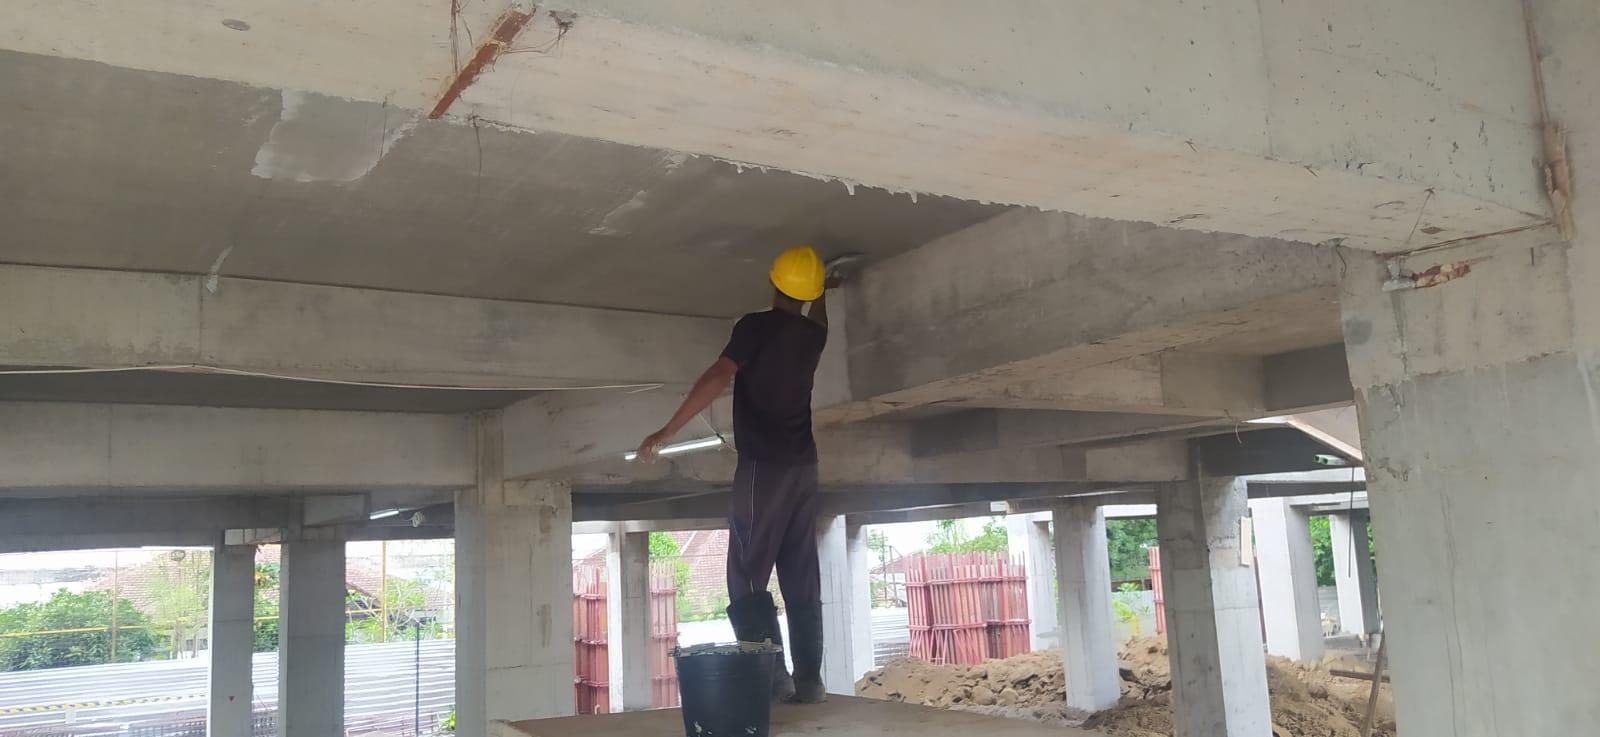hat: (753, 215, 859, 311)
no vest: (691, 285, 833, 489)
